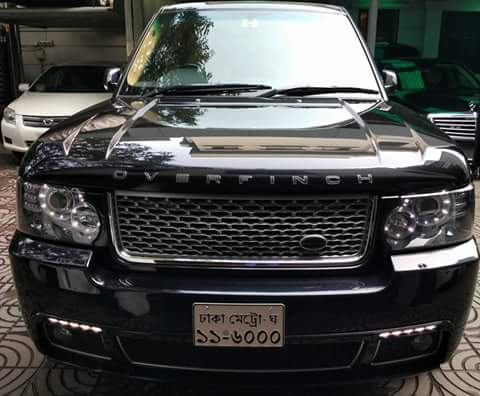registration_plate: (192, 302, 286, 349)
